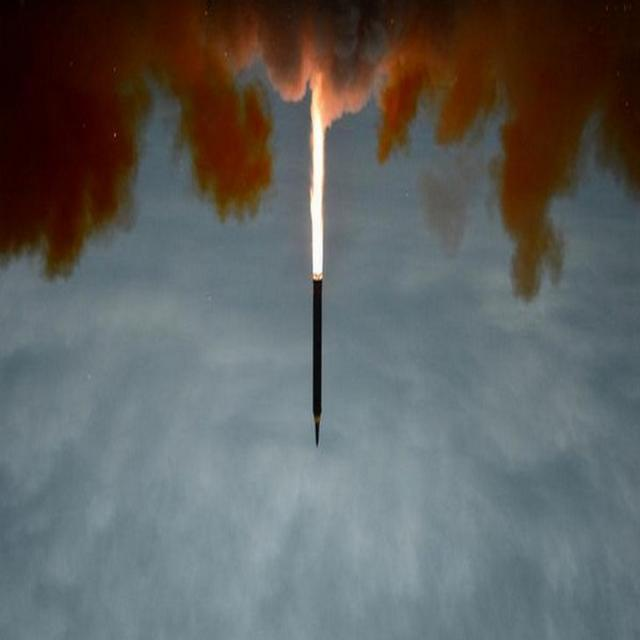Missile: (306, 268, 326, 456)
